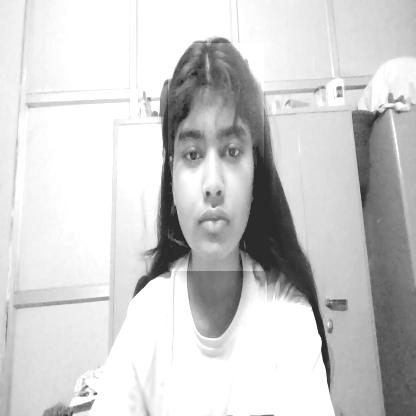Normal: (168, 43, 264, 271)
